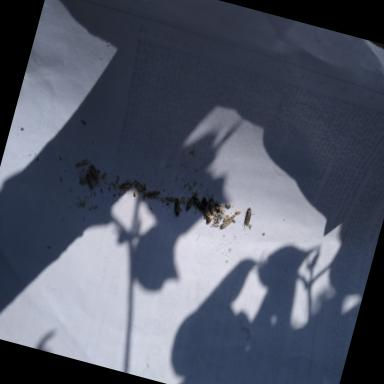pbw: (242, 205, 257, 230), (184, 188, 198, 212), (204, 193, 219, 214), (170, 196, 184, 218), (117, 180, 133, 194), (84, 174, 98, 190), (201, 208, 214, 224), (76, 156, 90, 169), (192, 196, 205, 210), (220, 217, 233, 231), (87, 164, 100, 178), (146, 187, 162, 198), (132, 180, 146, 192), (226, 211, 237, 223), (80, 118, 88, 125), (236, 209, 243, 216)
